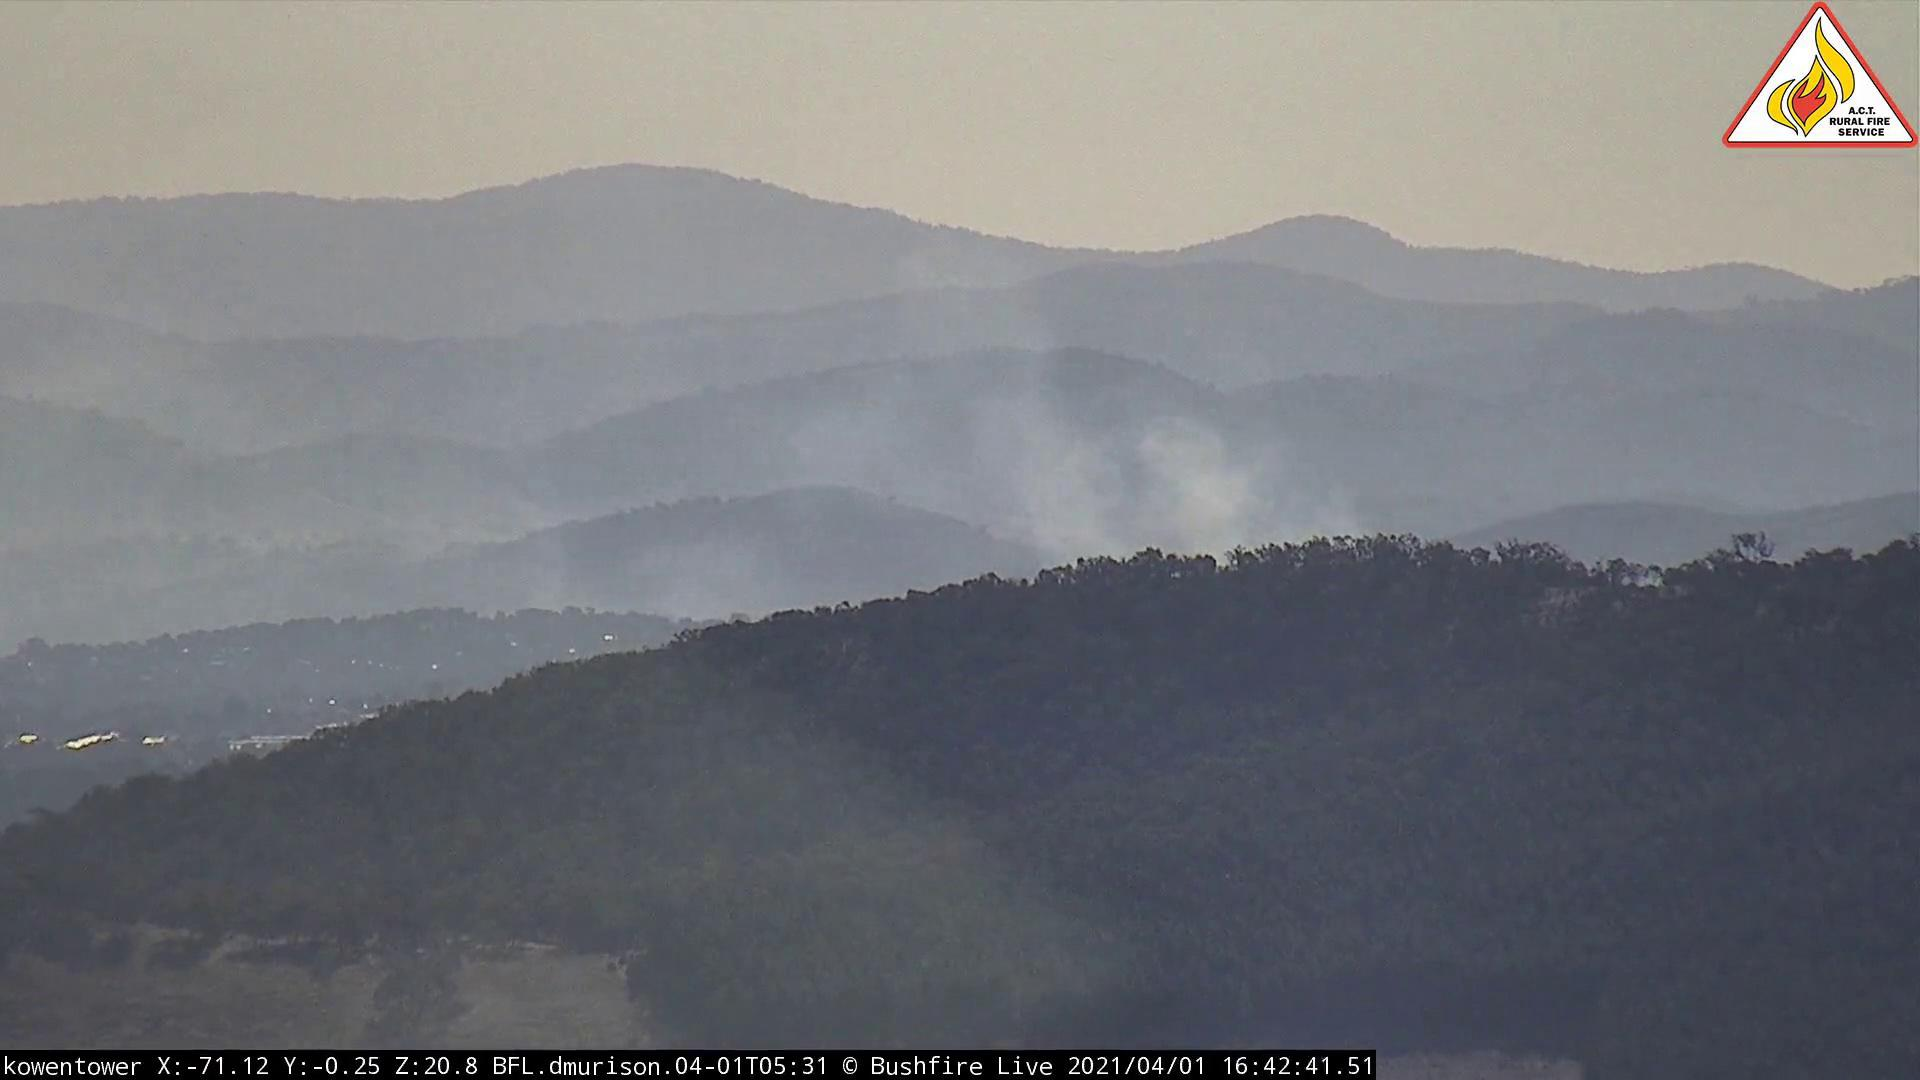Smoke: (469, 224, 1425, 709)
